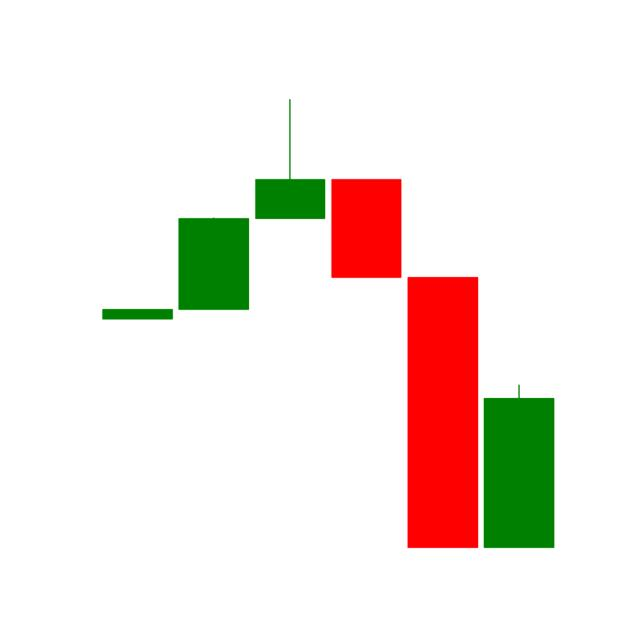Bearish Marubozu: (407, 276, 477, 550), (332, 178, 402, 279)
Bullish Marubozu: (178, 217, 250, 311)
Four price doji: (100, 309, 174, 320)
